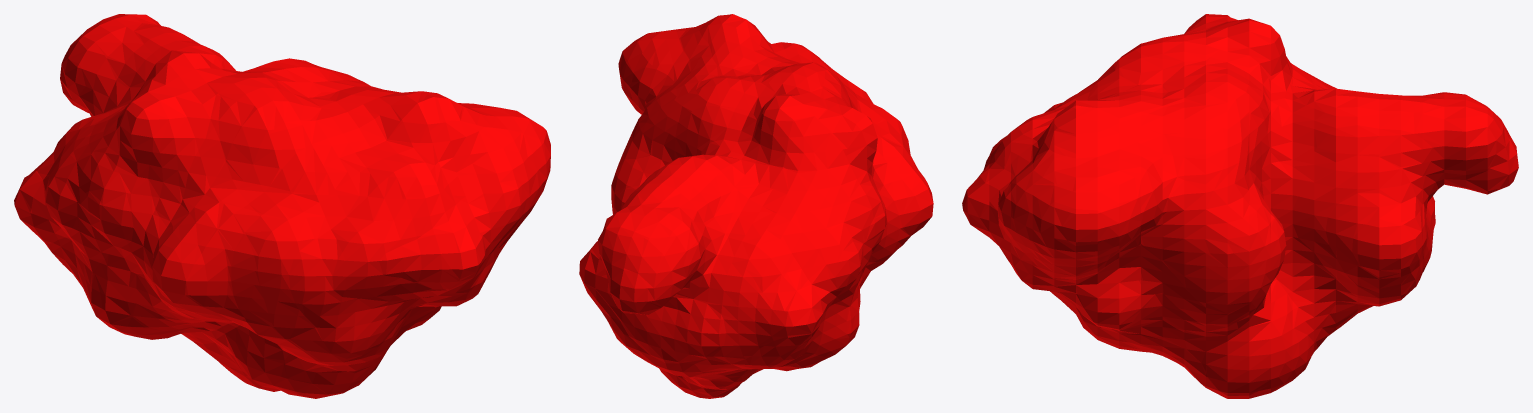
File: 2__3__cyclic_nucleotide_3__pho_coarse.dae
3 views of the same model, side by side, from view 1: azimuth 30°, elevation 25°; view 2: azimuth 150°, elevation 25°; view 3: azimuth 270°, elevation 25° (orthographic). The views are drawn at different scales.
Visible parts, largest first — view 1: 2__3__cyclic_nucleotide_3__pho; view 2: 2__3__cyclic_nucleotide_3__pho; view 3: 2__3__cyclic_nucleotide_3__pho.
Boxes of the visible parts, x1,y1,x2,y2 form: 2__3__cyclic_nucleotide_3__pho: (14, 14, 550, 398); 2__3__cyclic_nucleotide_3__pho: (579, 14, 933, 398); 2__3__cyclic_nucleotide_3__pho: (962, 14, 1518, 398).
Size of the model in its own units: 54.92 by 48.99 by 75.02.
